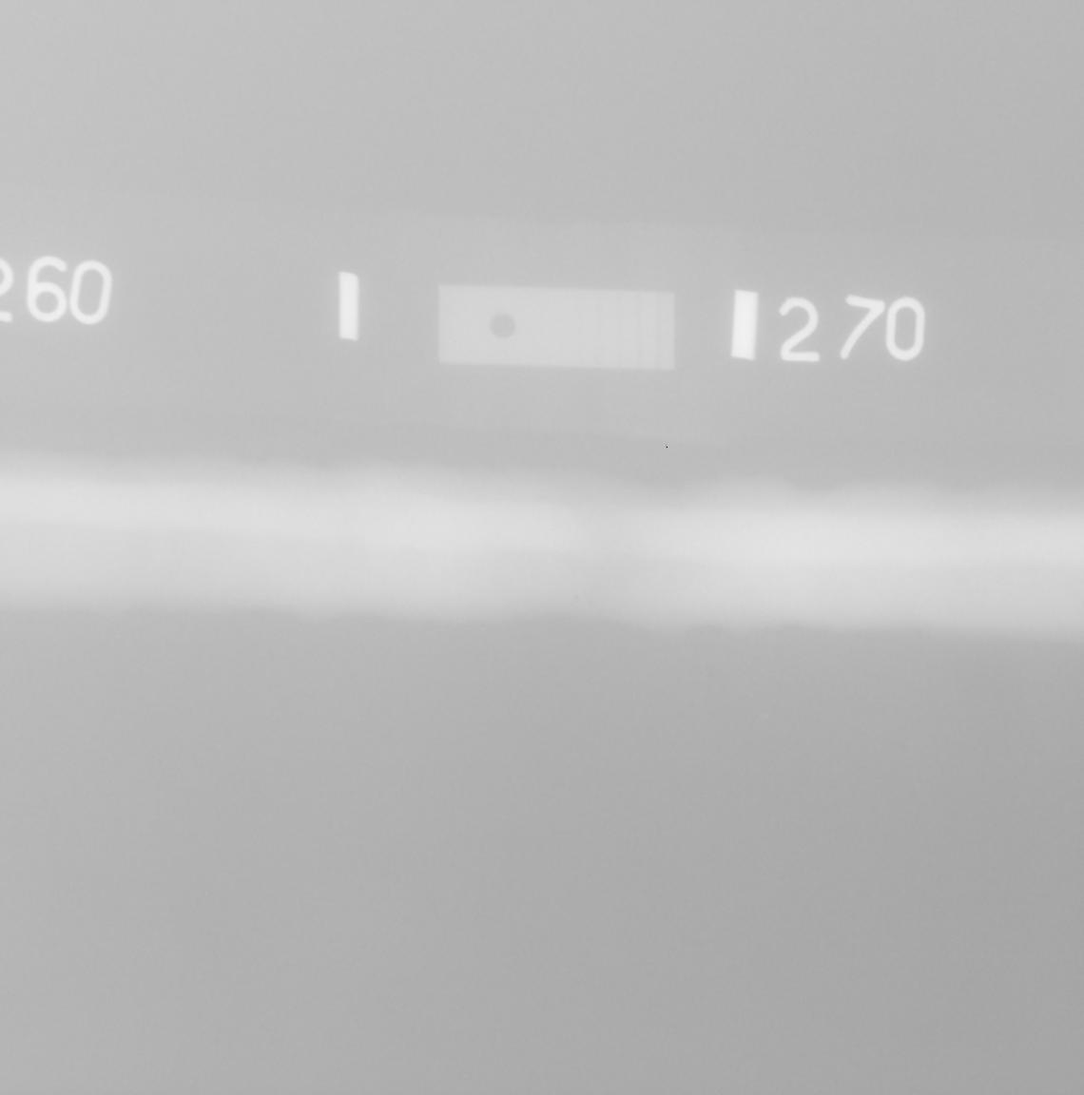Inclusion: (586, 600, 598, 610)
Pore/Porosity: (574, 595, 581, 602)
Reference Standard 1: (438, 285, 676, 371)
